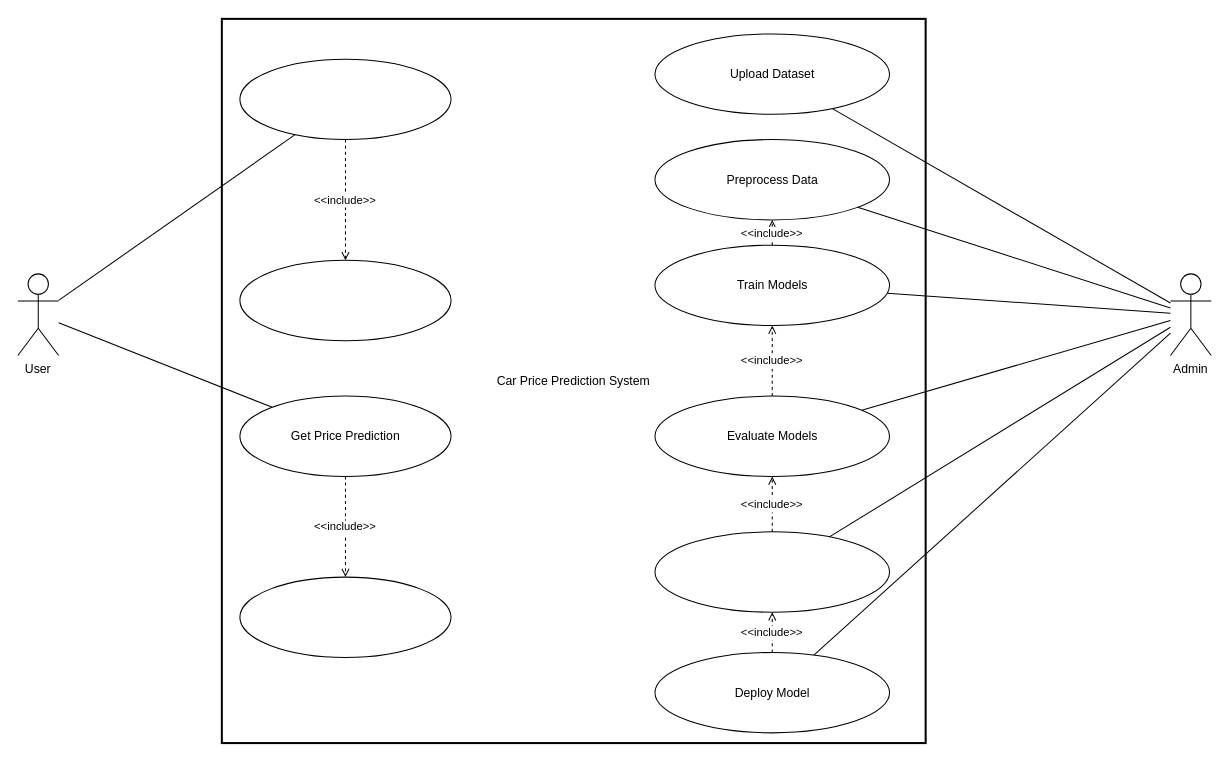
Image size: 1229x761. Some labels were removed from this diagram. Here are the shapes that lost their labels. From the top down, the box of each, then its label:
(239, 58, 451, 140): Enter Car Details
(239, 259, 451, 341): Validate Input
(654, 531, 890, 612): Select Best Model
(239, 576, 451, 657): Use Trained Model
